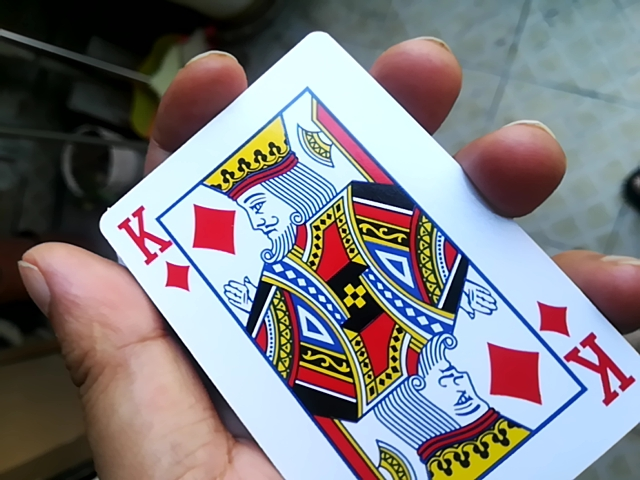fk k: (82, 25, 627, 480)
